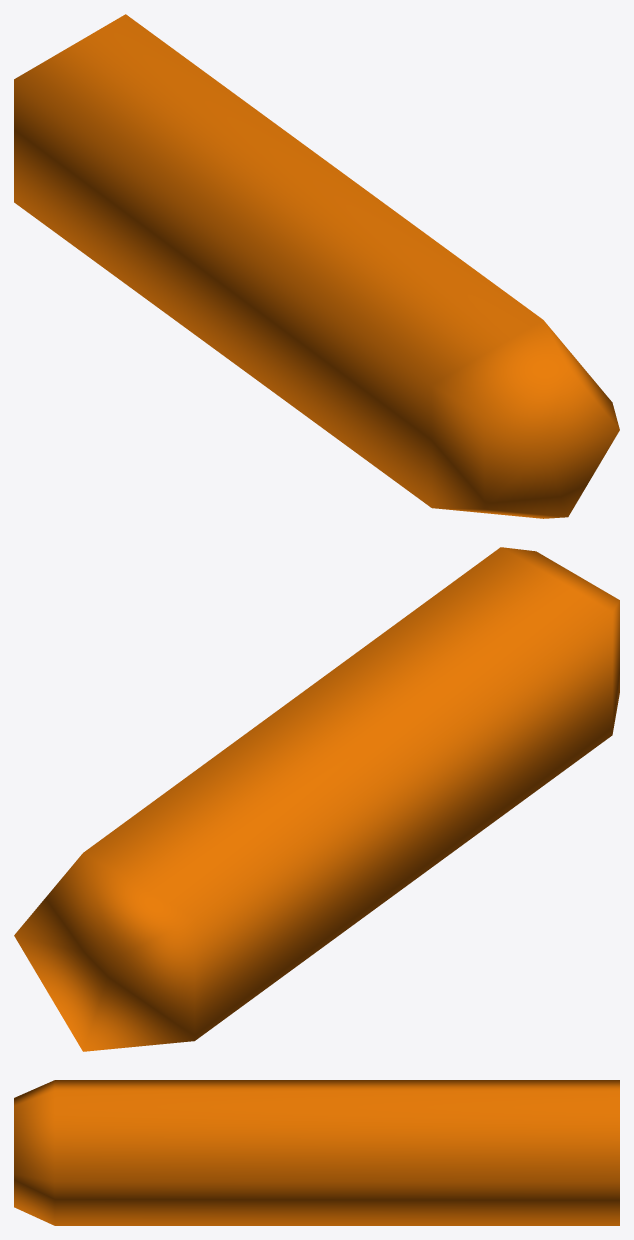
File: bullet_02.fbx
The picture shows the model from 3 angles, top to bottom: view 1: azimuth 30°, elevation 25°; view 2: azimuth 150°, elevation 25°; view 3: azimuth 270°, elevation 25°; orthographic projection. The views are drawn at different scales.
Visible parts, largest first — view 1: bullet; view 2: bullet; view 3: bullet.
Boxes of the visible parts, x1,y1,x2,y2 form: bullet: [14, 14, 619, 518]; bullet: [14, 547, 619, 1051]; bullet: [14, 1080, 619, 1225].
Bounding box in the file's own units: 0.147 × 0.1546 × 0.6307.
